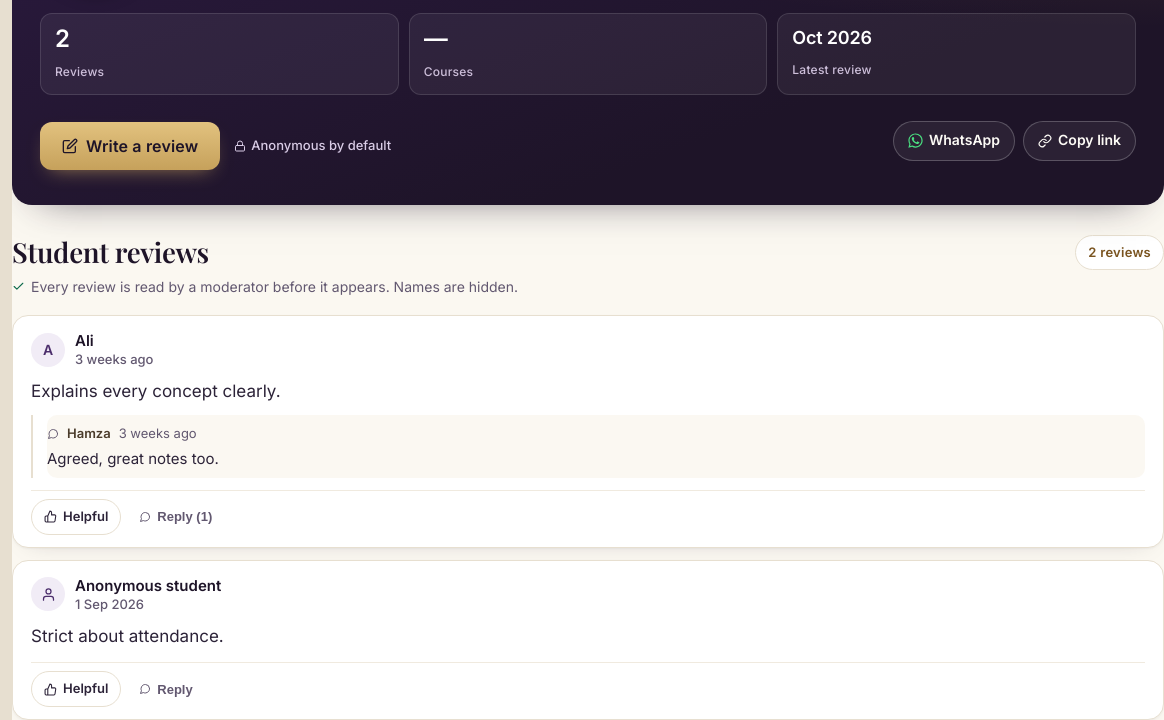
Scenario: TeacherDetailView replies › sends a reply with the optional name and confirms it is pending
(page scrolled)
Click the button with aria-label "reply to the review by anonymous" at (166, 689), box 131,671 -> 201,707
(page scrolled)
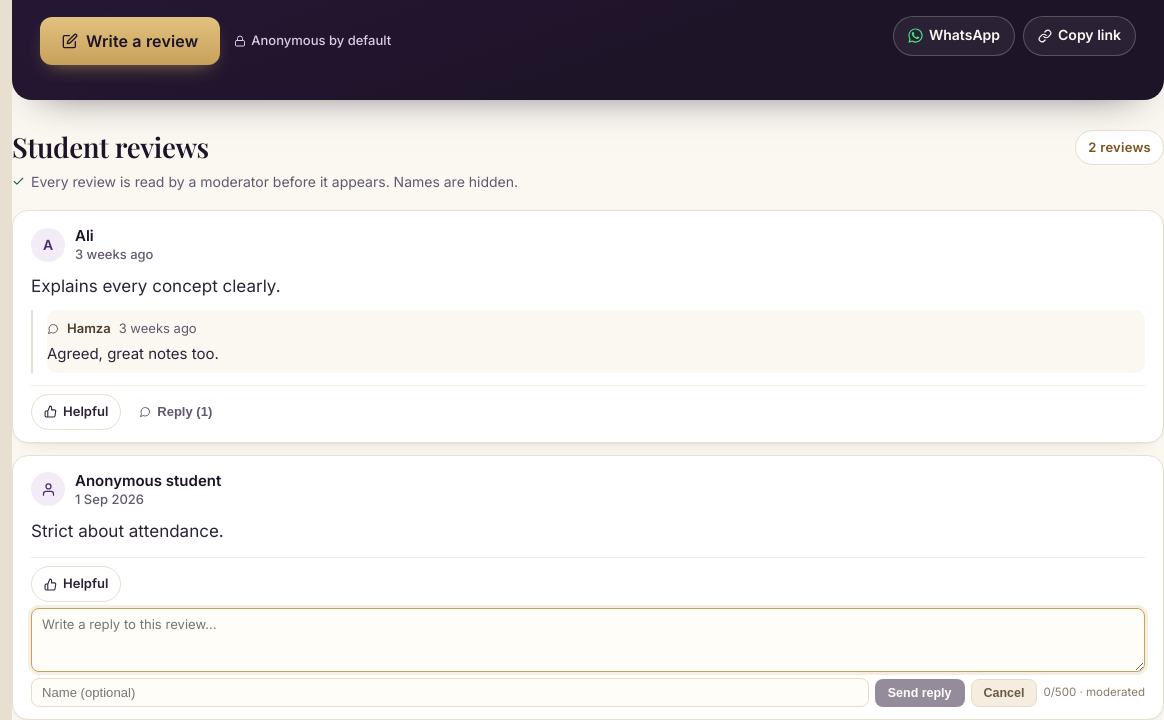
Expected: the button "Send reply" is disabled, 875,678 -> 965,706
Type "  Not that strict actually.  " into the text box named "reply to the review by anonymous" at (588, 640), box 31,608 -> 1145,672
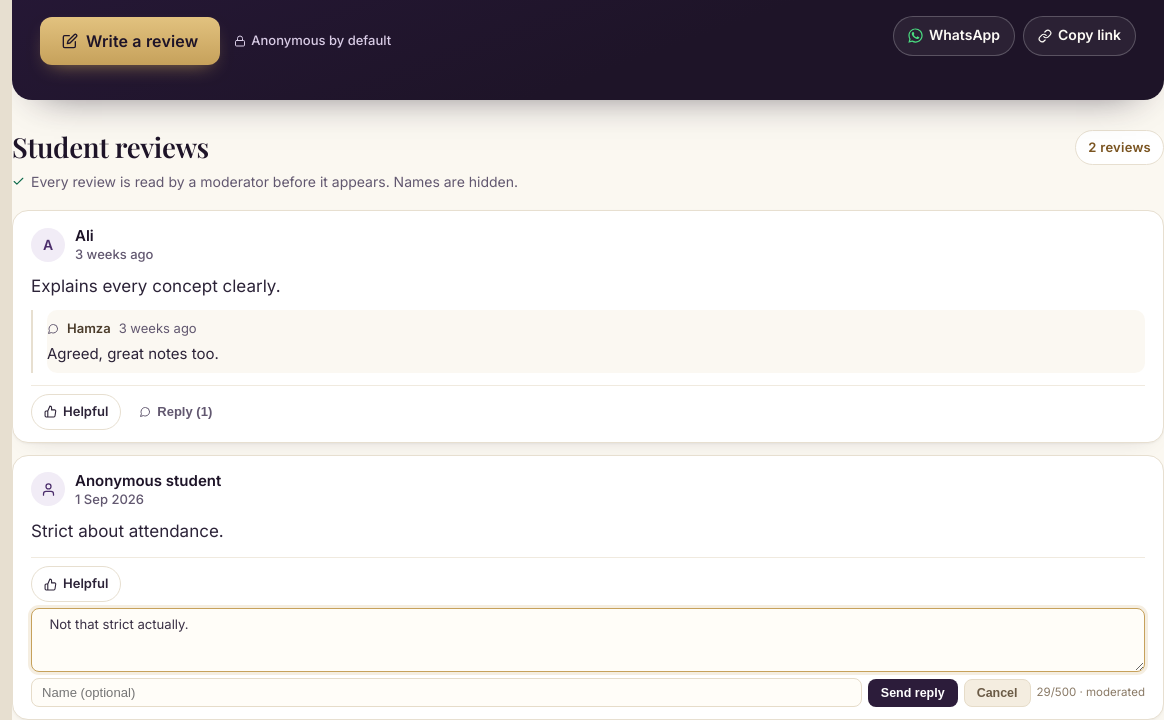
Type "Sara" into the field named "your name" at (446, 692), box 31,678 -> 862,707
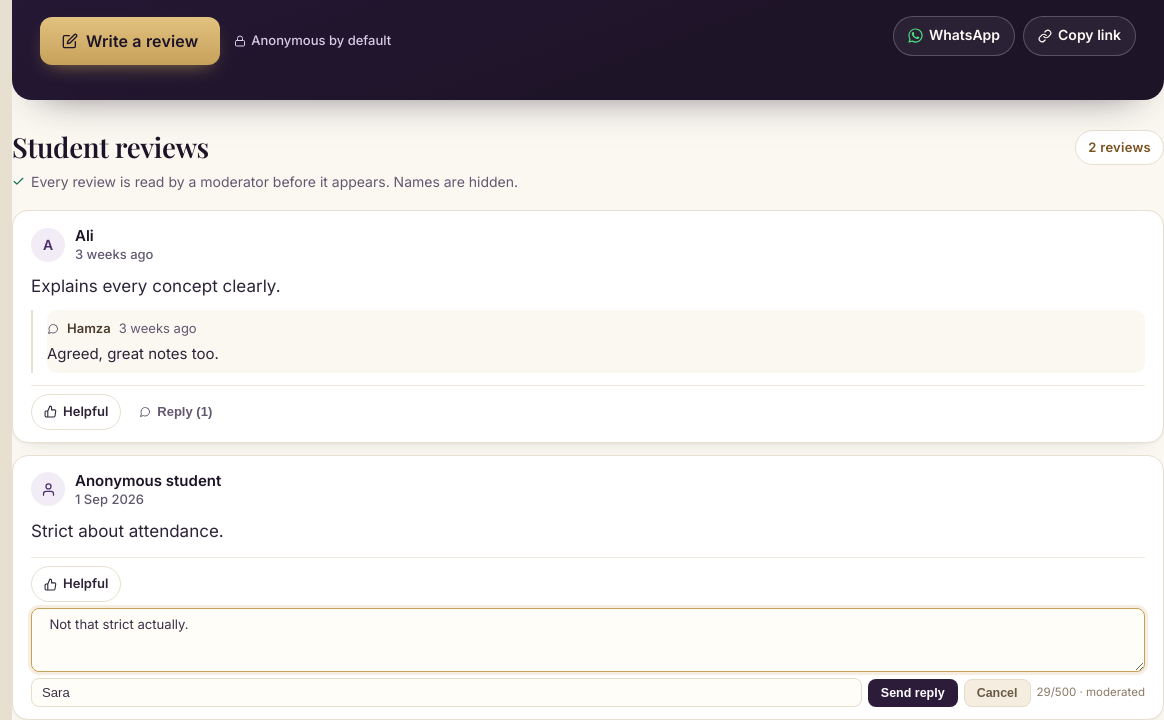
Expected: the button "Send reply" is enabled
Click the button "Send reply" at (913, 692), box 868,678 -> 958,706
(page scrolled)
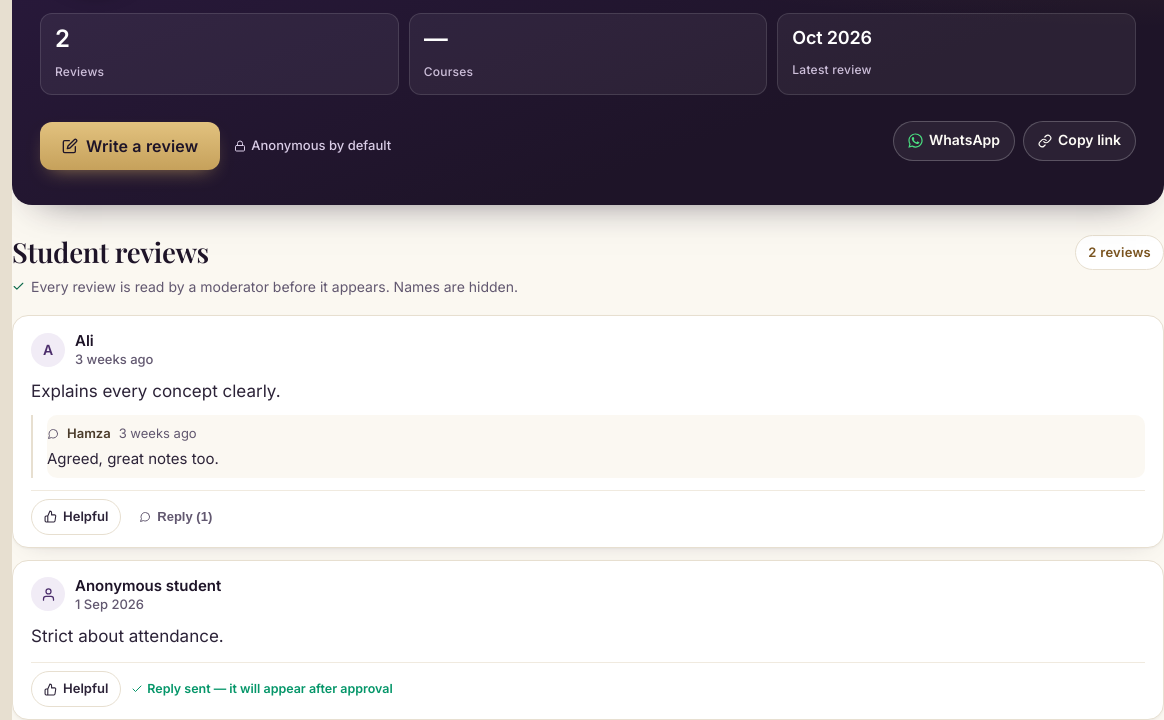
Expected: the text "Reply sent — it will appear after approval" is shown, 131,679 -> 393,699
